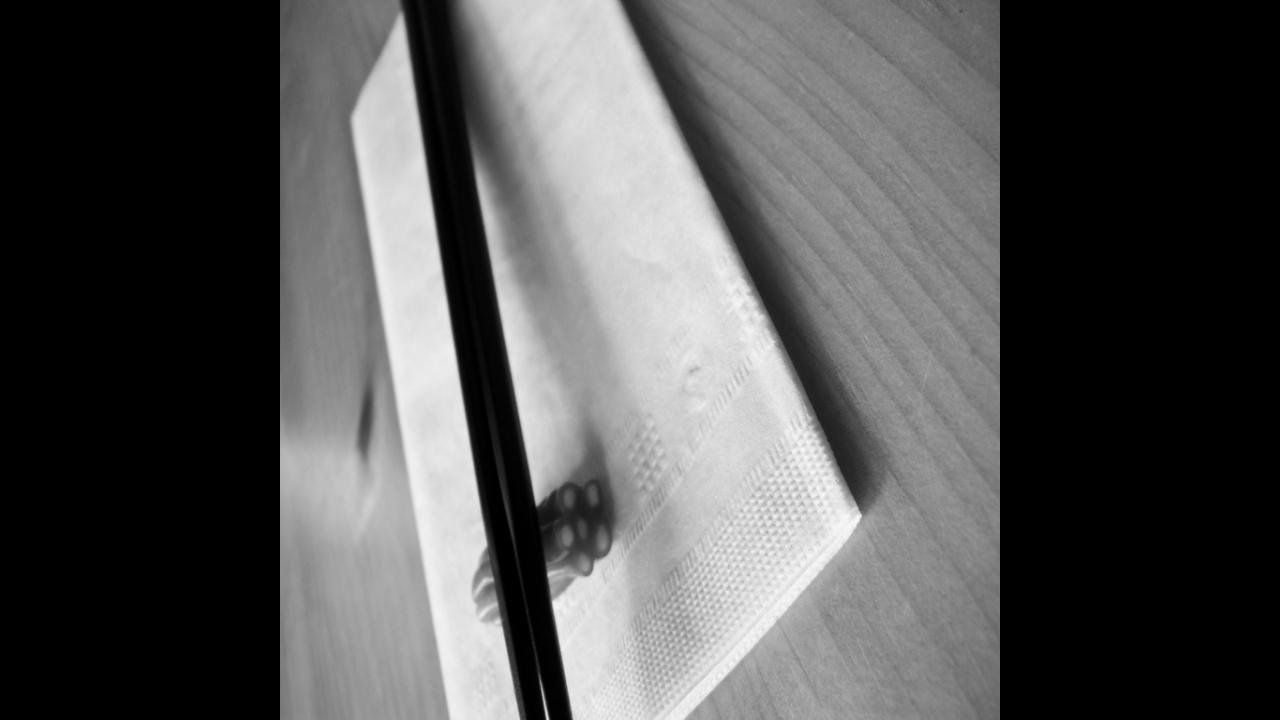chopstick: (394, 0, 610, 720)
